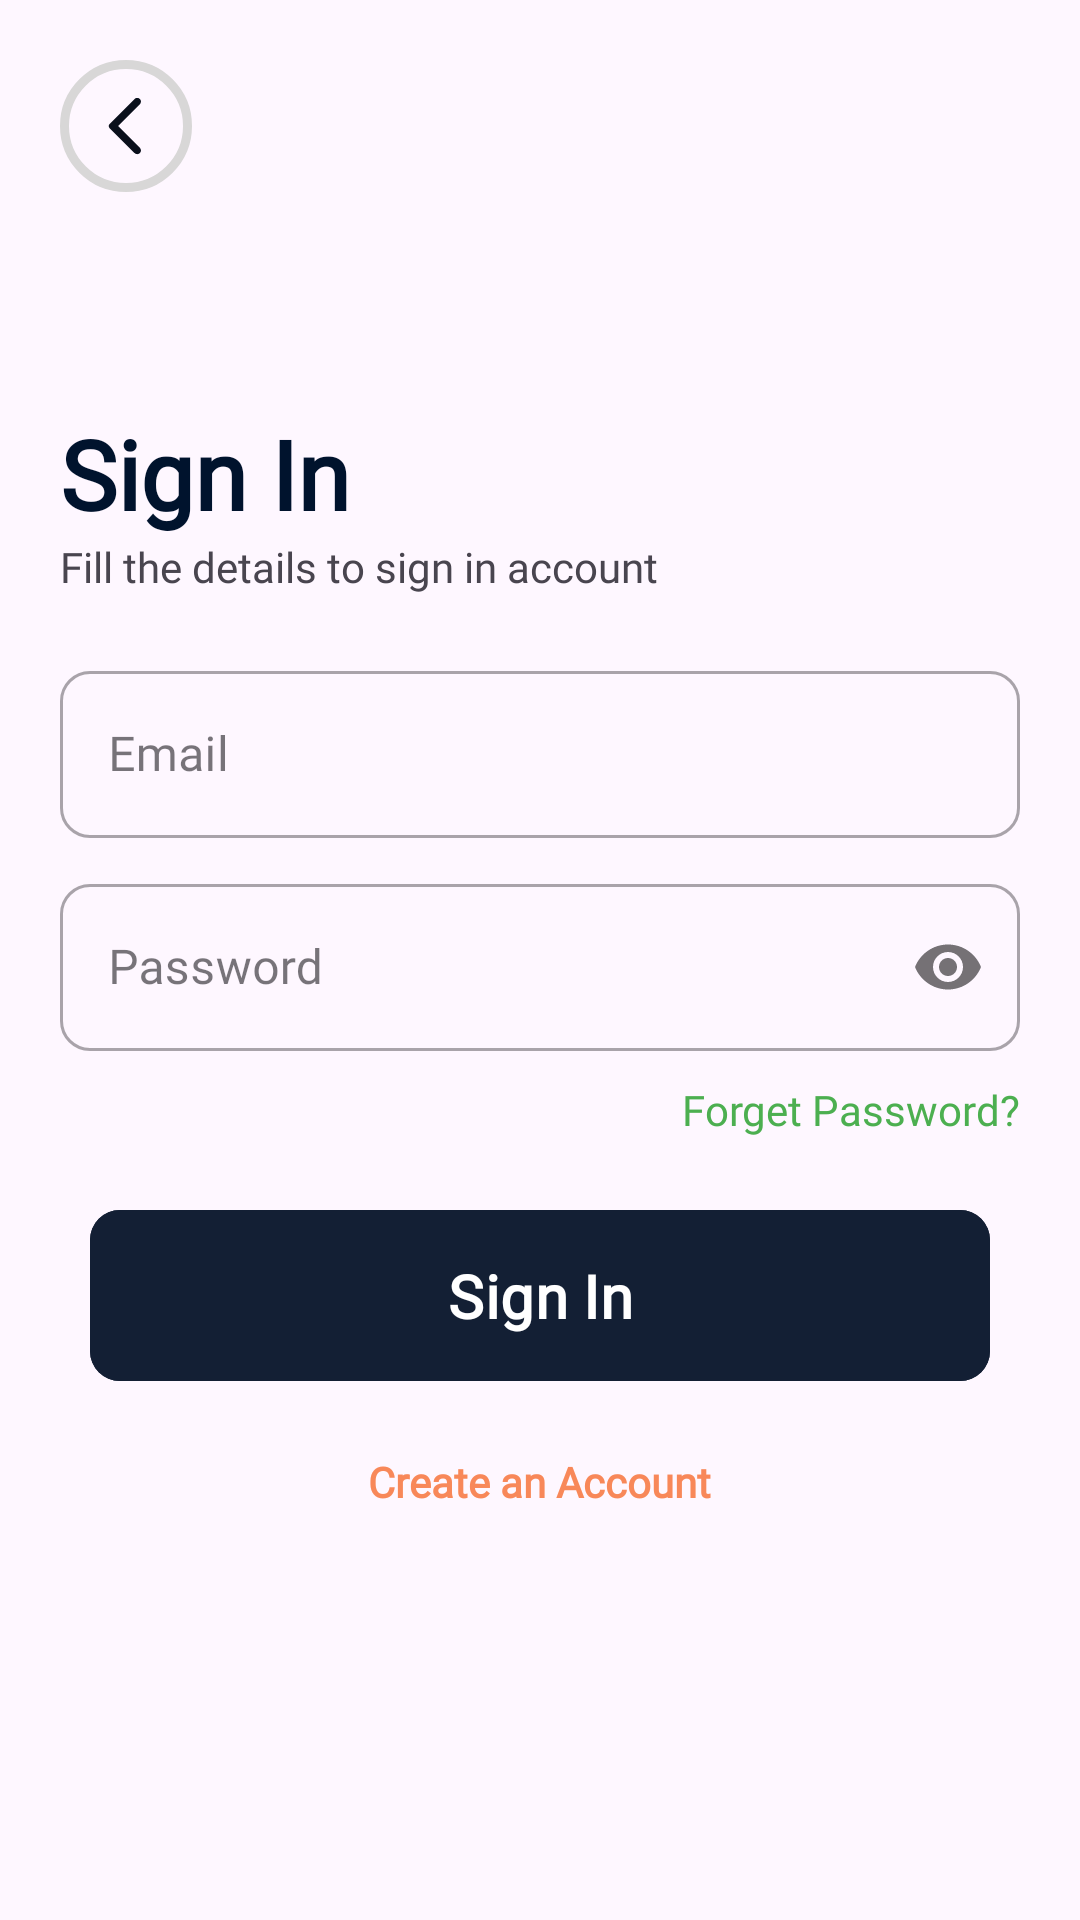

Where to tap for icons on this 1080px×1920px app screen, as (x,y):
back arrow: (126,126)
